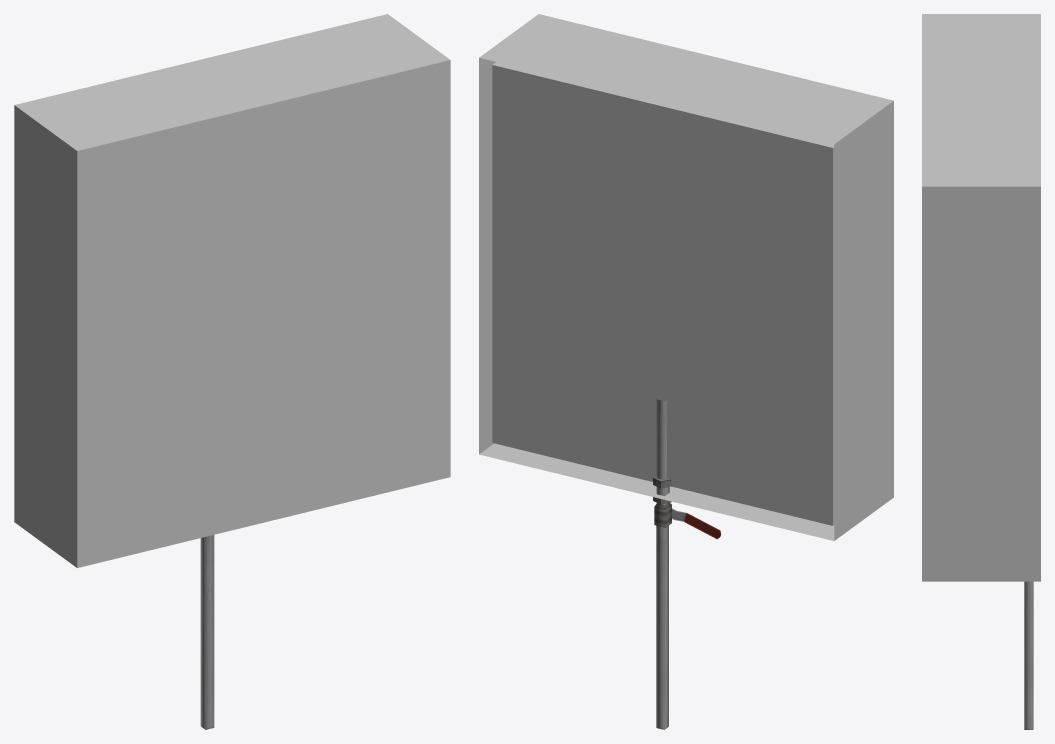
File: ms_fire_hosebox_glass_lod1.fbx
3 views of the same model, side by side, from view 1: azimuth 30°, elevation 25°; view 2: azimuth 150°, elevation 25°; view 3: azimuth 270°, elevation 25° (orthographic). The views are drawn at different scales.
Visible parts, largest first — view 1: ms_fire_hosebox_glass_lod1; view 2: ms_fire_hosebox_glass_lod1; view 3: ms_fire_hosebox_glass_lod1.
Boxes of the visible parts, x1,y1,x2,y2 form: ms_fire_hosebox_glass_lod1: [14, 14, 450, 729]; ms_fire_hosebox_glass_lod1: [479, 14, 893, 729]; ms_fire_hosebox_glass_lod1: [922, 14, 1040, 729].
Bounding box in the file's own units: 73.95 × 125 × 21.55.
